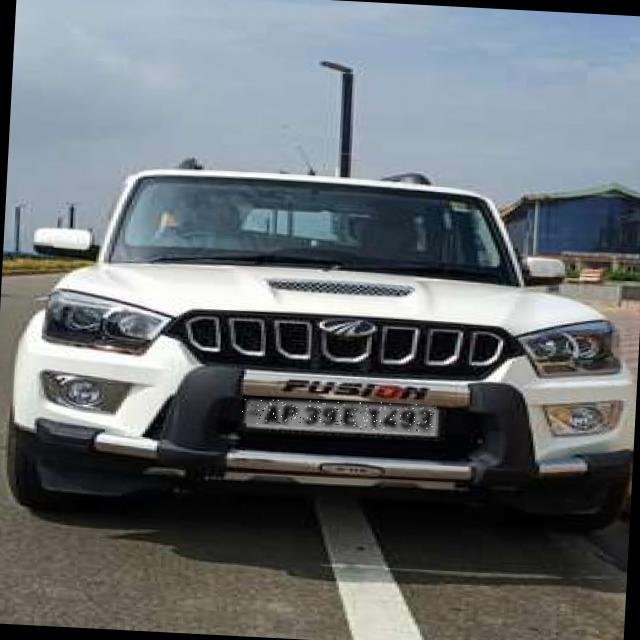Plate: (243, 396, 438, 434)
